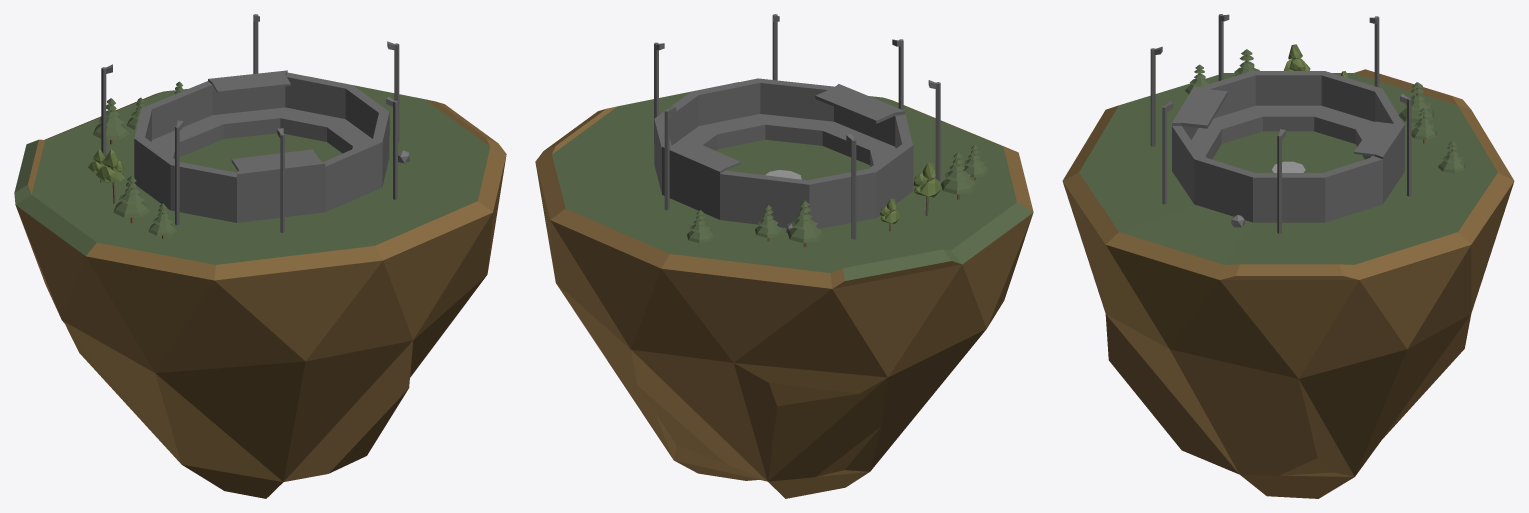
Rendered from galati.glb.
3 renders of one model, left to right at view 1: azimuth 30°, elevation 25°; view 2: azimuth 150°, elevation 25°; view 3: azimuth 270°, elevation 25°, orthographic.
Parts seen in each view (by area): view 1: planet, Cone.002, Cone.003, Tree Type4 01 Model.004, Cylinder.007, Cylinder, Cylinder.008, Cylinder.009; view 2: planet, Cone.003, Cone.002, Cylinder.006, Tree Type4 01 Model.004, Cylinder.007, Cylinder.008; view 3: planet, Cone.003, Cylinder.009, Cylinder, Cylinder.006, Cylinder.002, Cone.007, Cone.008.
Part boxes in pixels (x1,y1,x2,y2): planet: (14,70,506,498); Cone.002: (113,176,149,223); Cone.003: (93,98,128,144); Tree Type4 01 Model.004: (96,149,124,182); Cylinder.007: (101,64,112,157); Cylinder: (386,96,397,199); Cylinder.008: (175,120,183,225); Cylinder.009: (277,128,284,232); planet: (535,78,1033,498); Cone.003: (788,200,824,247); Cone.002: (941,152,977,199); Cylinder.006: (664,105,676,210); Tree Type4 01 Model.004: (913,162,941,197); Cylinder.007: (846,133,856,239); Cylinder.008: (928,80,940,181); planet: (1062,69,1514,498); Cone.003: (1399,82,1434,123); Cylinder.009: (1150,46,1162,146); Cylinder: (1162,101,1173,204); Cylinder.006: (1400,94,1411,196); Cylinder.002: (1277,129,1285,233); Cone.007: (1438,141,1465,172); Cone.008: (1411,108,1436,143).
Bounding box in the file's own units: 2.8 × 2.59 × 2.62.
